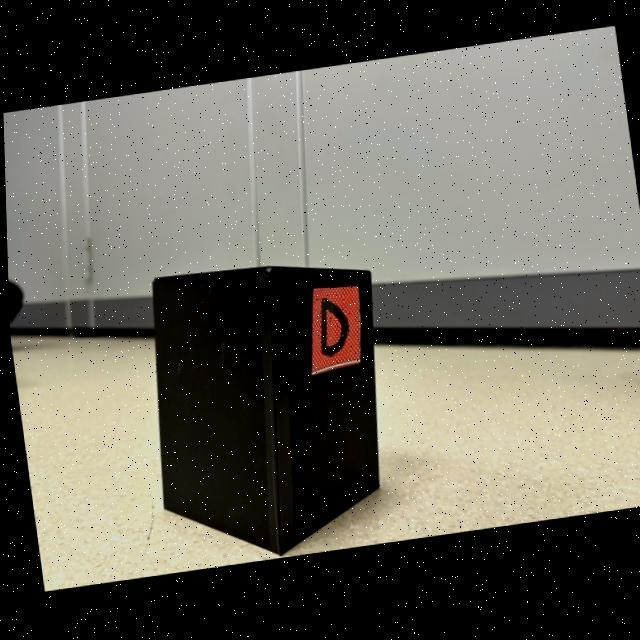D: (320, 301, 346, 358)
